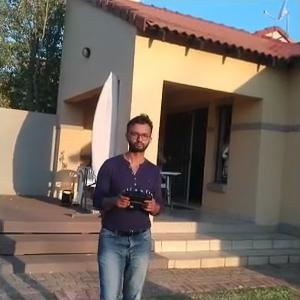follow: (92, 111, 164, 298)
